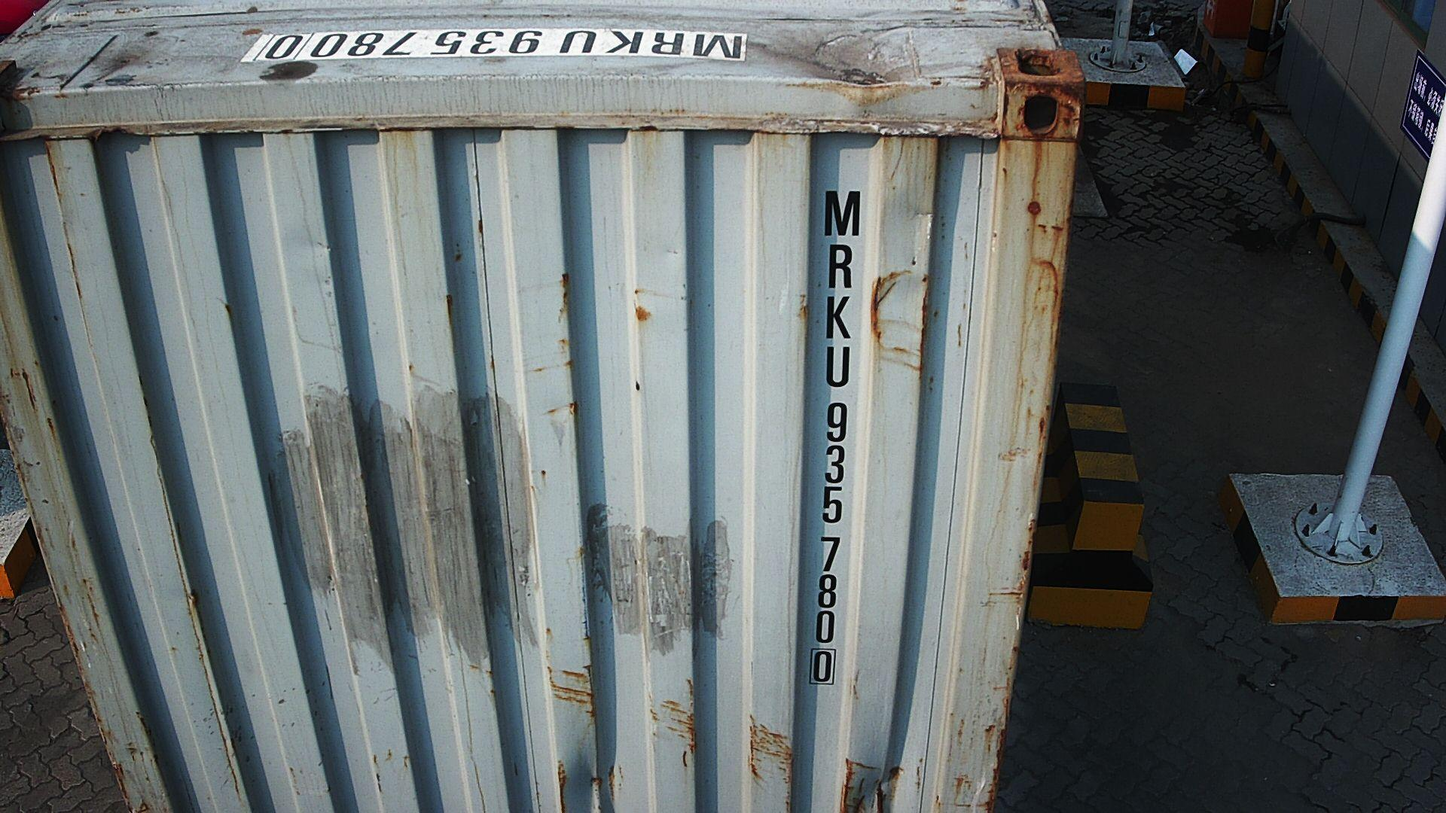container-numbers: (805, 181, 866, 690), (234, 29, 753, 64)
